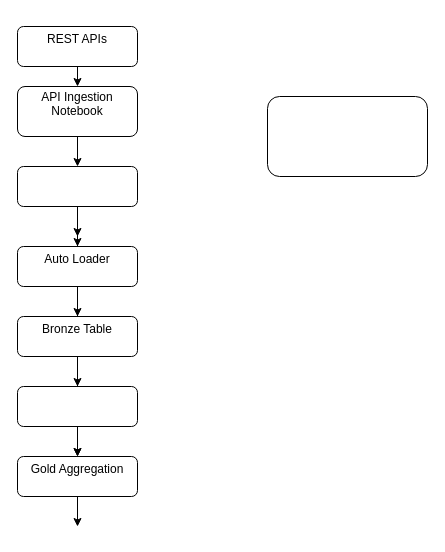
This 445x552 diagram has some shape labels left out. The box of each missing label's shape, as (x1, y1, x2, y2) in pixels:
JSON Streaming Delta Tables Checkpointing: (266, 96, 428, 176)
Raw Landing Zone (ADLS): (16, 166, 138, 206)
Silver Table: (16, 386, 138, 426)
